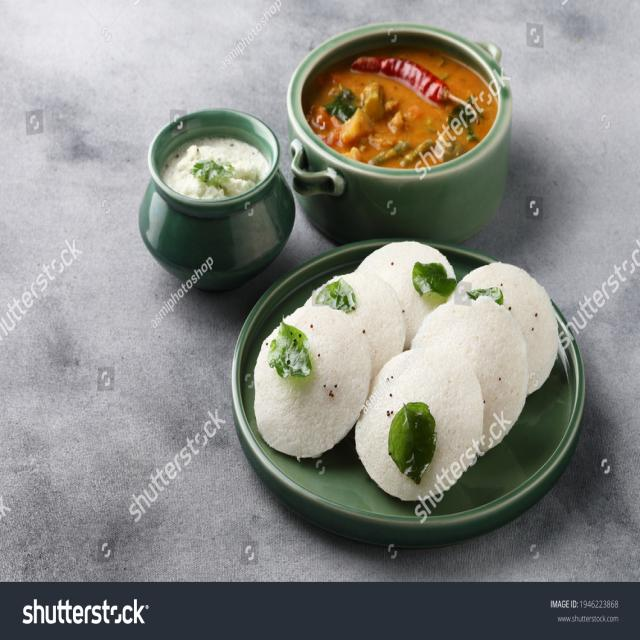IDLI: (355, 342, 484, 500), (254, 299, 371, 459), (411, 281, 528, 437), (464, 262, 557, 394), (356, 242, 455, 349), (333, 271, 405, 379)
